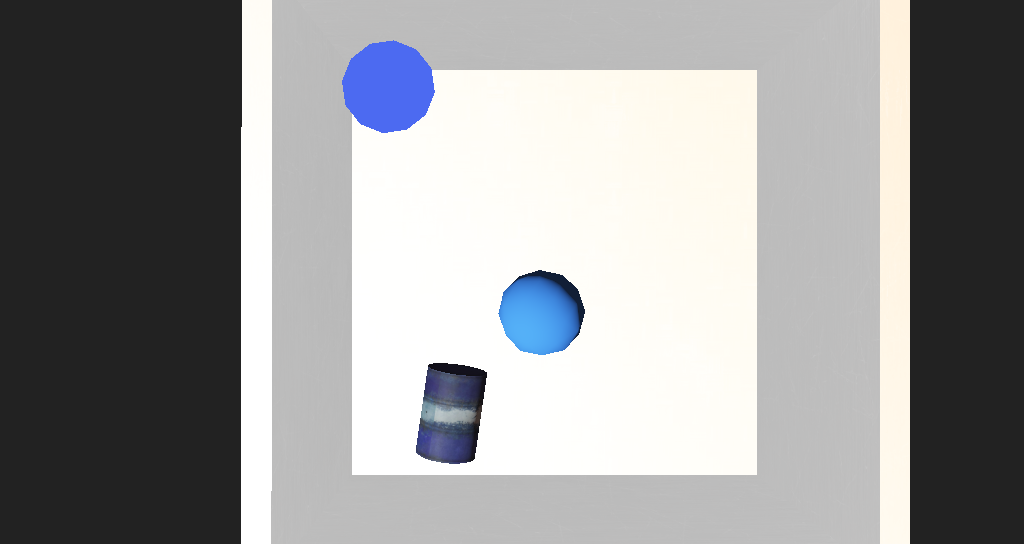cone: (401, 317, 461, 370)
cylinder: (354, 148, 428, 205)
sphere: (468, 270, 529, 313)
